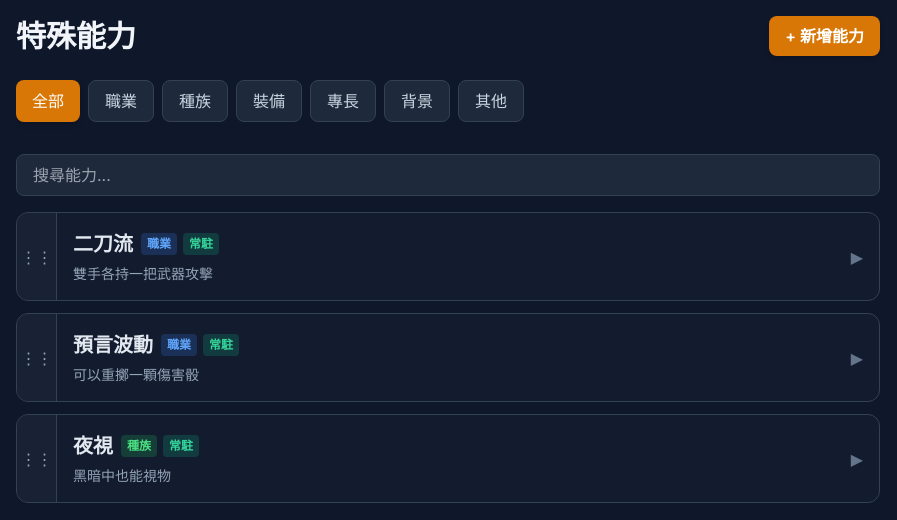
Test: AbilitiesPage - 搜尋列 › 點清空按鈕後恢復目前來源篩選下的全部能力
expect the heading "二刀流" is shown: met, box [73,229,133,259]
Type "二刀" into the field with placeholder "搜尋能力...".
click(448, 175); type("二刀")  # box [16,154,880,196]
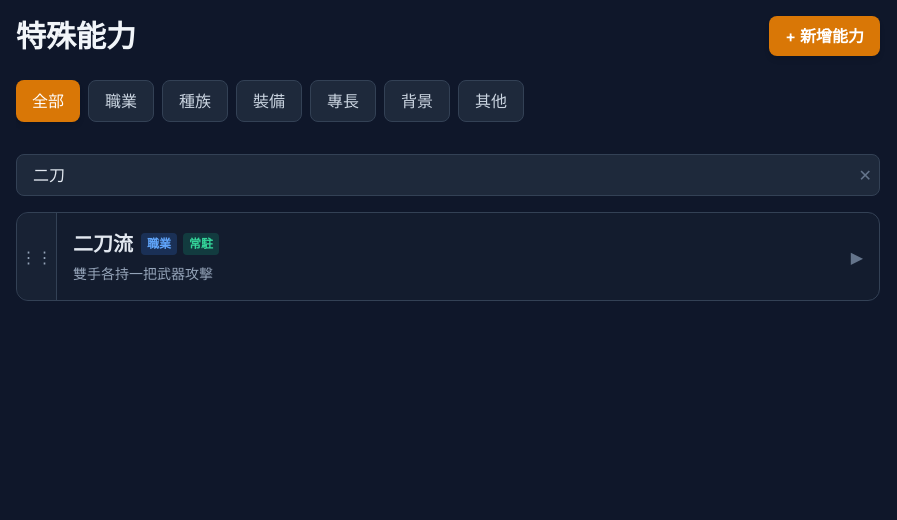
expect the button "夜視" is gone: met
Click the button named "清空搜尋".
click(865, 175)  # box [859,163,872,187]
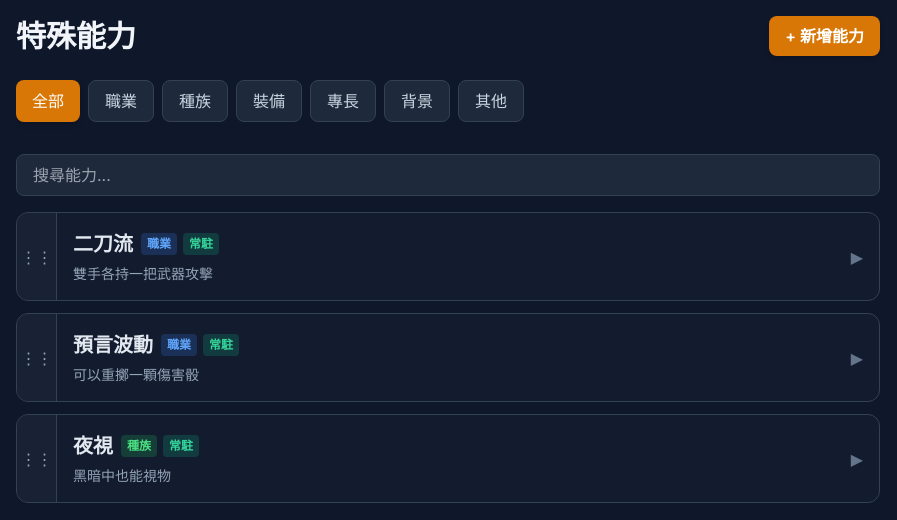
expect the heading "夜視" is shown: met, box [73,431,113,461]
